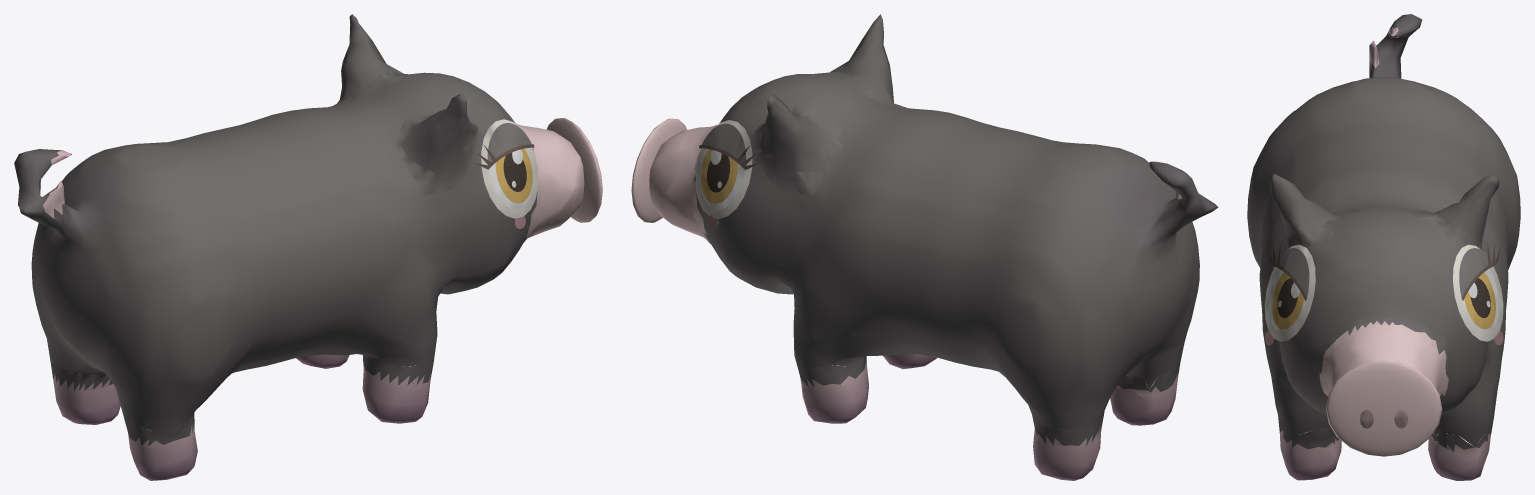
Rendered from berkshire_pig.glb.
3 renders of one model, left to right at view 1: azimuth 30°, elevation 25°; view 2: azimuth 150°, elevation 25°; view 3: azimuth 270°, elevation 25°, orthographic.
Visible parts, largest first — view 1: berkshire_pig; view 2: berkshire_pig; view 3: berkshire_pig.
Part boxes in pixels (<box>): berkshire_pig: <box>14,14,602,480</box>; berkshire_pig: <box>631,14,1218,480</box>; berkshire_pig: <box>1247,14,1520,480</box>.
Bounding box in the file's own units: 0.8347 × 0.4633 × 0.3538.
